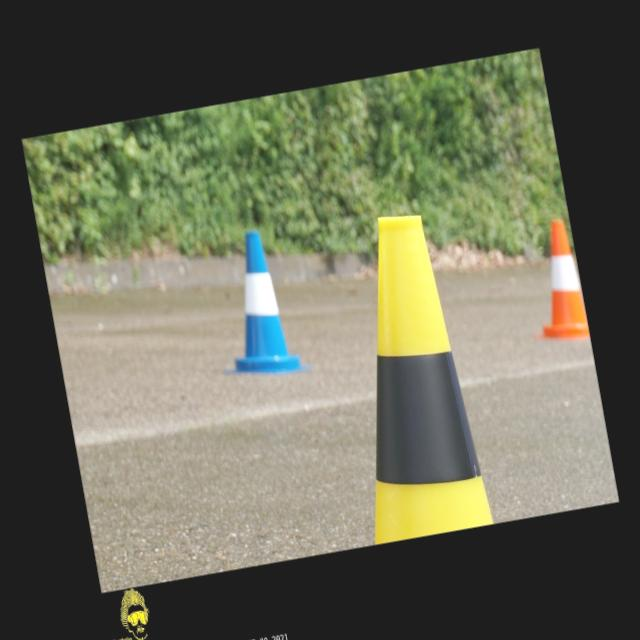blue_cone: (202, 226, 312, 384)
orange_cone: (516, 218, 589, 344)
yellow_cone: (320, 207, 493, 544)
